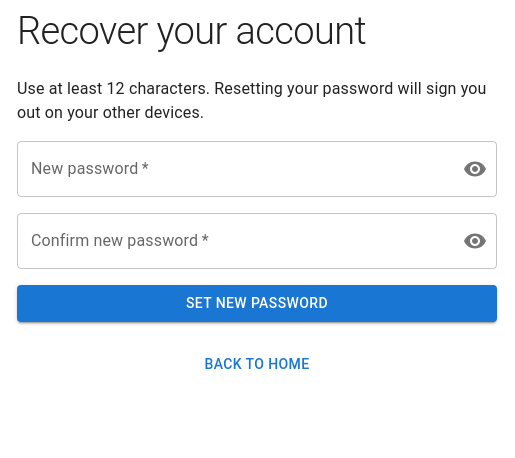
it: account recovery states › checks the link without consuming it, validates matching passwords, then resets
This screenshot has width=515, height=458.
Type "new secure password" into the password field labelled "New password *" at coordinates (232, 169), box [17,141,447,197]
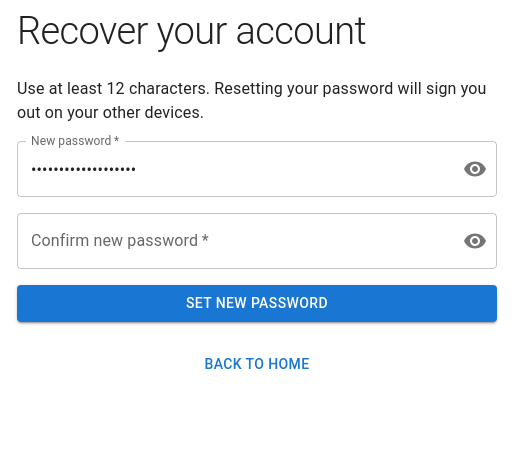
Type "does not match" into the password field labelled "Confirm new password *" at coordinates (232, 241), box [17,213,447,269]
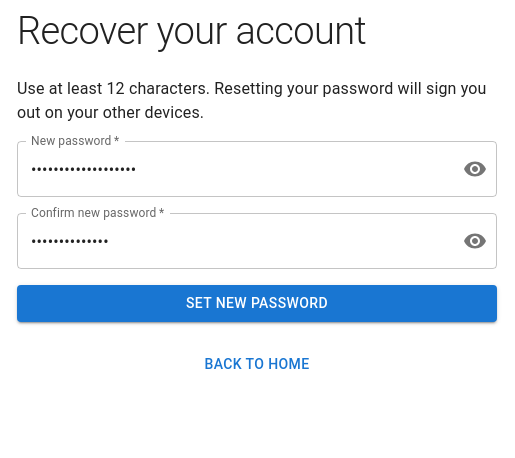
Submit the form named "Set new password", box [17,77,497,322]
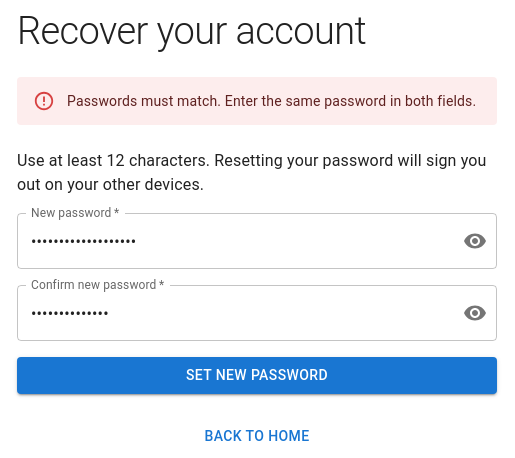
Now the text "Passwords must match" is shown, box [67,93,476,109]
Type "new secure password" into the password field labelled "Confirm new password *" at coordinates (232, 313), box [17,285,447,341]
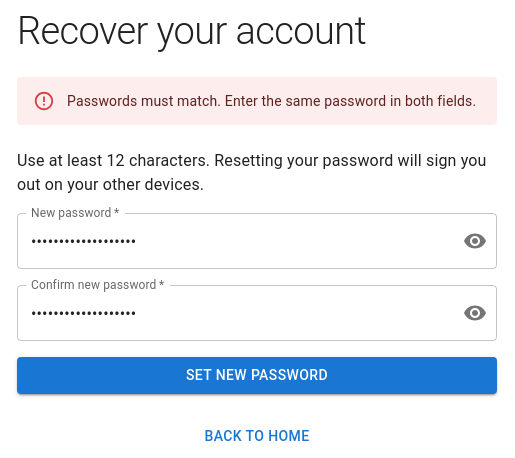
Submit the form named "Set new password", box [17,149,497,394]
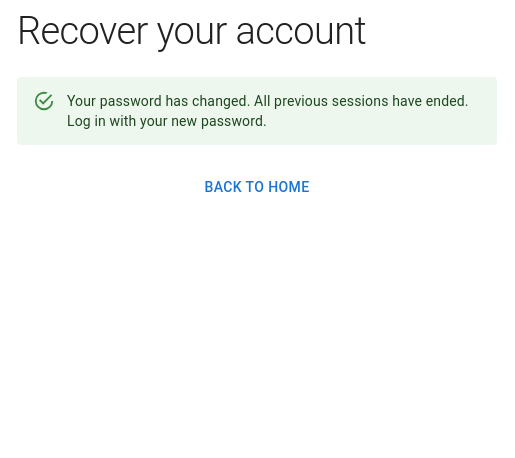
Now the text "Your password has changed" is shown, box [67,93,469,129]
Now the label labelled "New password" is gone
